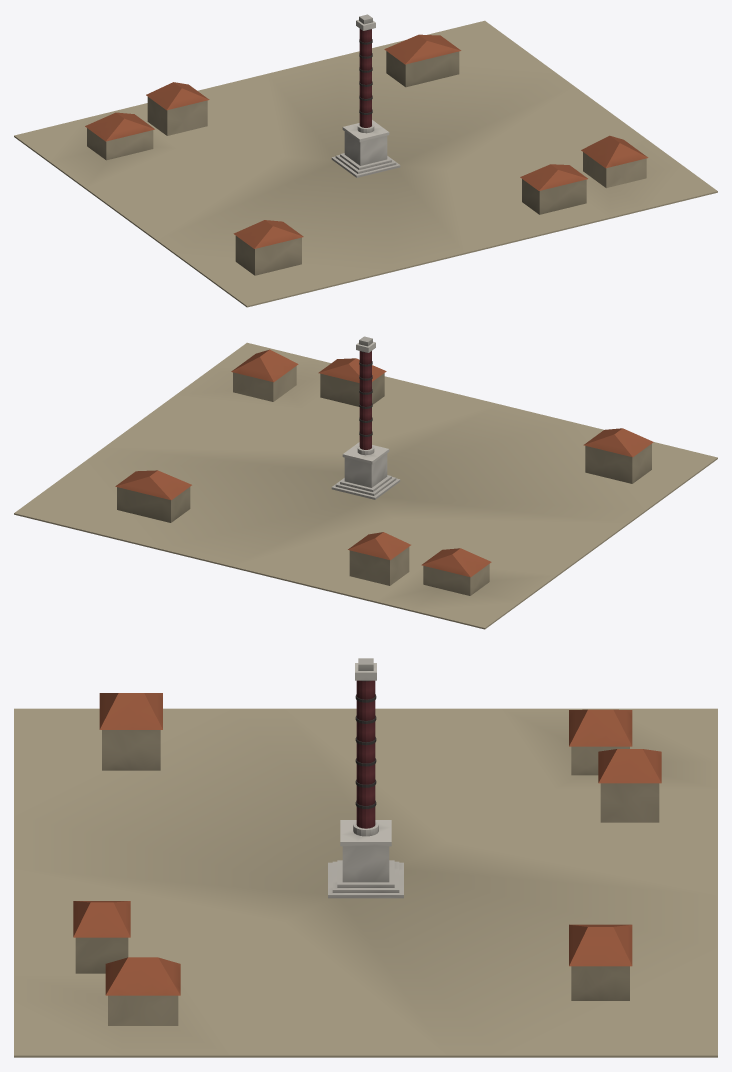
File: column-of-constantine.glb
The picture shows the model from 3 angles, top to bottom: view 1: azimuth 30°, elevation 25°; view 2: azimuth 150°, elevation 25°; view 3: azimuth 270°, elevation 25°; orthographic projection. The views are drawn at different scales.
Parts seen in each view (by area): view 1: p0_ground, p1_houses, p2_column; view 2: p0_ground, p1_houses, p2_column; view 3: p0_ground, p1_houses, p2_column.
Part boxes in pixels (x1=…): p0_ground: x1=14, y1=20, x2=717, y2=307; p1_houses: x1=85, y1=34, x2=648, y2=275; p2_column: x1=331, y1=14, x2=400, y2=177; p0_ground: x1=14, y1=342, x2=717, y2=629; p1_houses: x1=115, y1=349, x2=653, y2=595; p2_column: x1=331, y1=336, x2=400, y2=499; p0_ground: x1=14, y1=708, x2=717, y2=1057; p1_houses: x1=73, y1=693, x2=661, y2=1025; p2_column: x1=328, y1=658, x2=403, y2=898.
Size of the model in its own units: 140 by 41.9 by 120.
